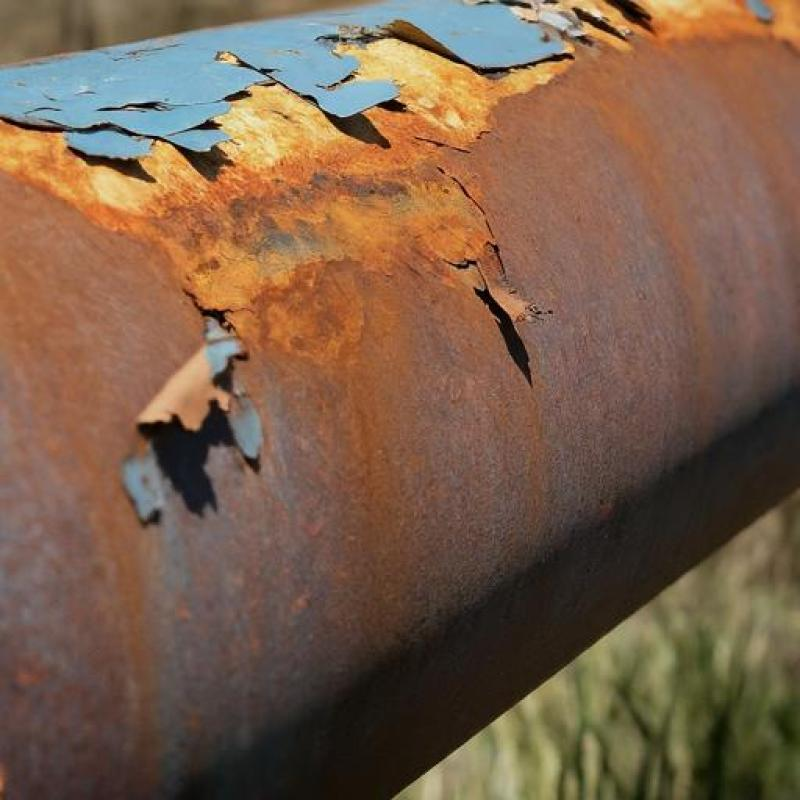corrosion: (2, 9, 790, 738)
